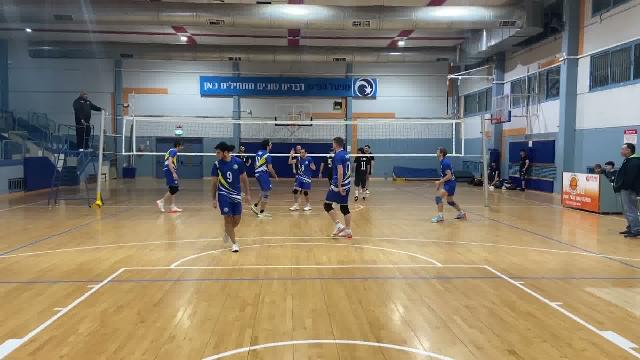ball: (93, 199, 105, 211)
